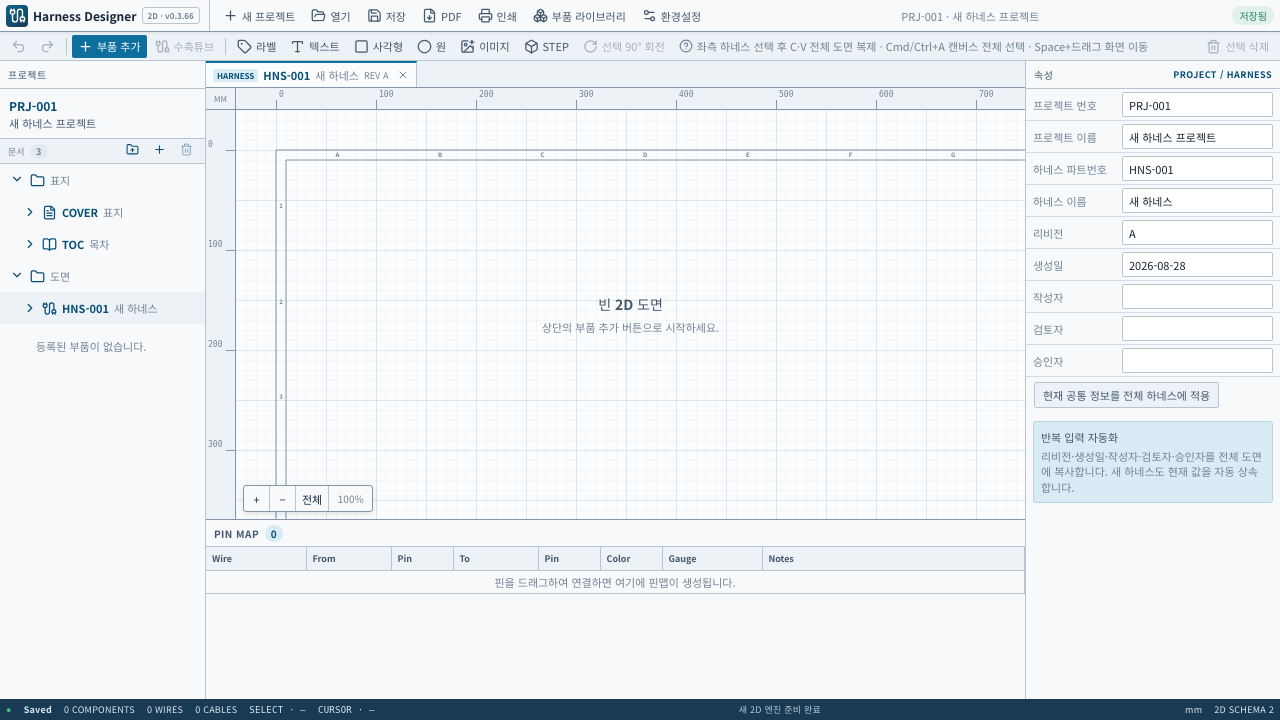
새 2D 편집 화면 › 외부 부품 라이브러리 관리 화면을 연다
Click the button "부품 라이브러리" at (579, 16), box [526,4,633,28]
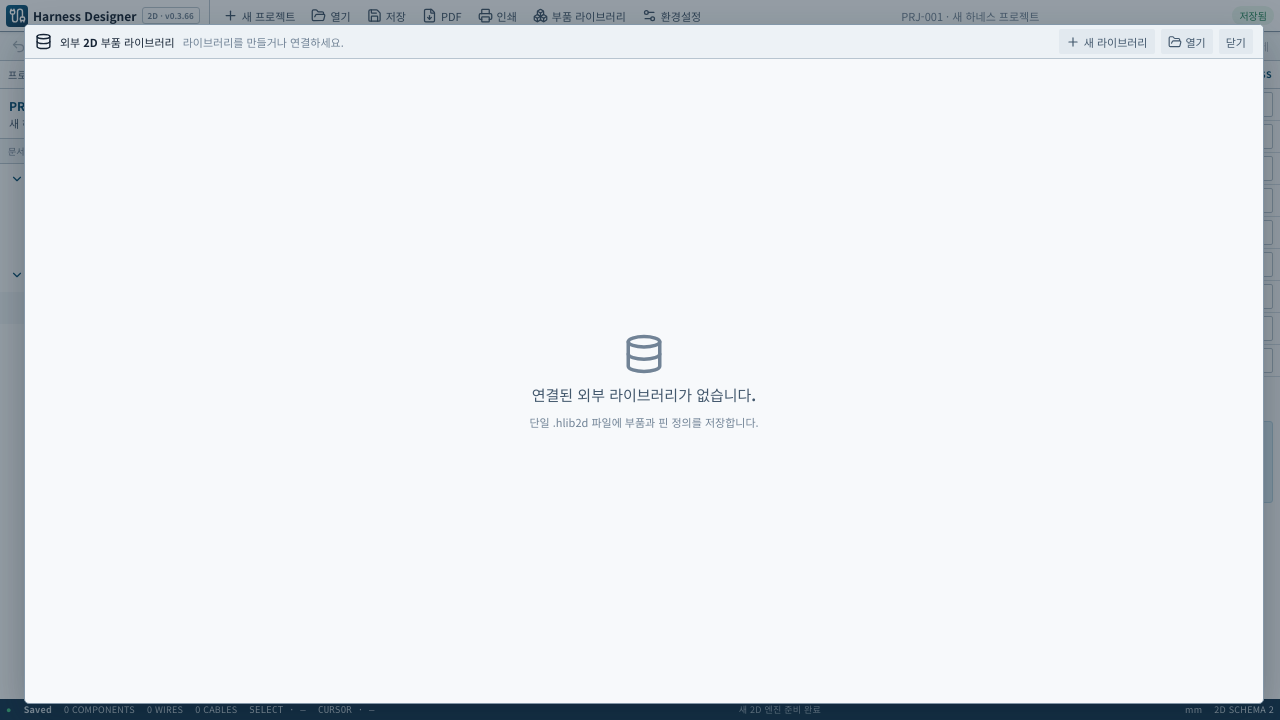
Expected: the dialog "외부 2D 부품 라이브러리" is shown
Expected: the text "연결된 외부 라이브러리가 없습니다." is shown, [532,384,756,404]
